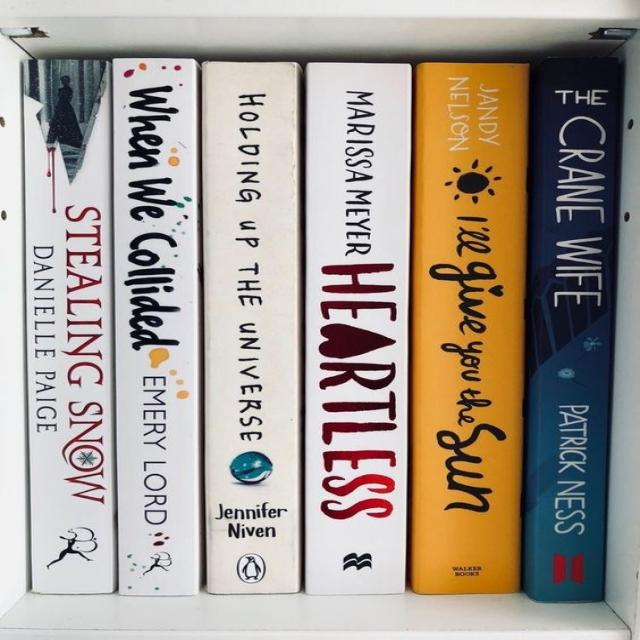book: (411, 63, 527, 593), (305, 62, 411, 595), (522, 58, 622, 601), (203, 62, 301, 594), (23, 58, 116, 593), (113, 60, 201, 595)
